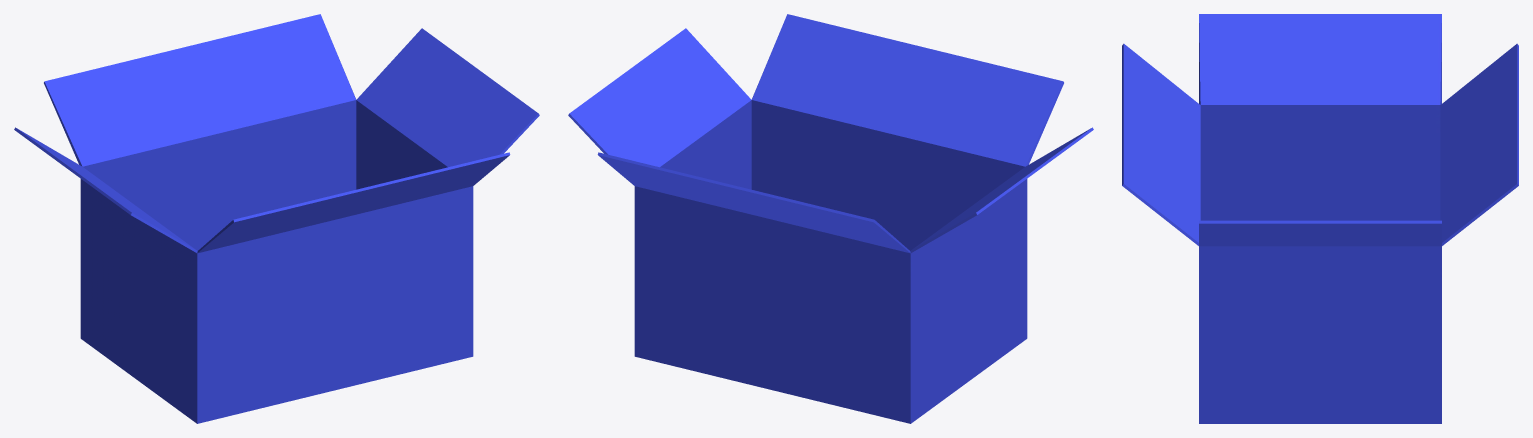
Rendered from open_blue_box_0402.fbx.
The picture shows the model from 3 angles, left to right: view 1: azimuth 30°, elevation 25°; view 2: azimuth 150°, elevation 25°; view 3: azimuth 270°, elevation 25°; orthographic projection. The views are drawn at different scales.
Visible parts, largest first — view 1: Box; view 2: Box; view 3: Box.
Part boxes in pixels (x1,y1,x2,y2): Box: (14, 14, 539, 423); Box: (568, 14, 1093, 423); Box: (1122, 14, 1518, 423).
Size of the model in its own units: 124 by 66.58 by 99.65.
1 material, 1 textured.
